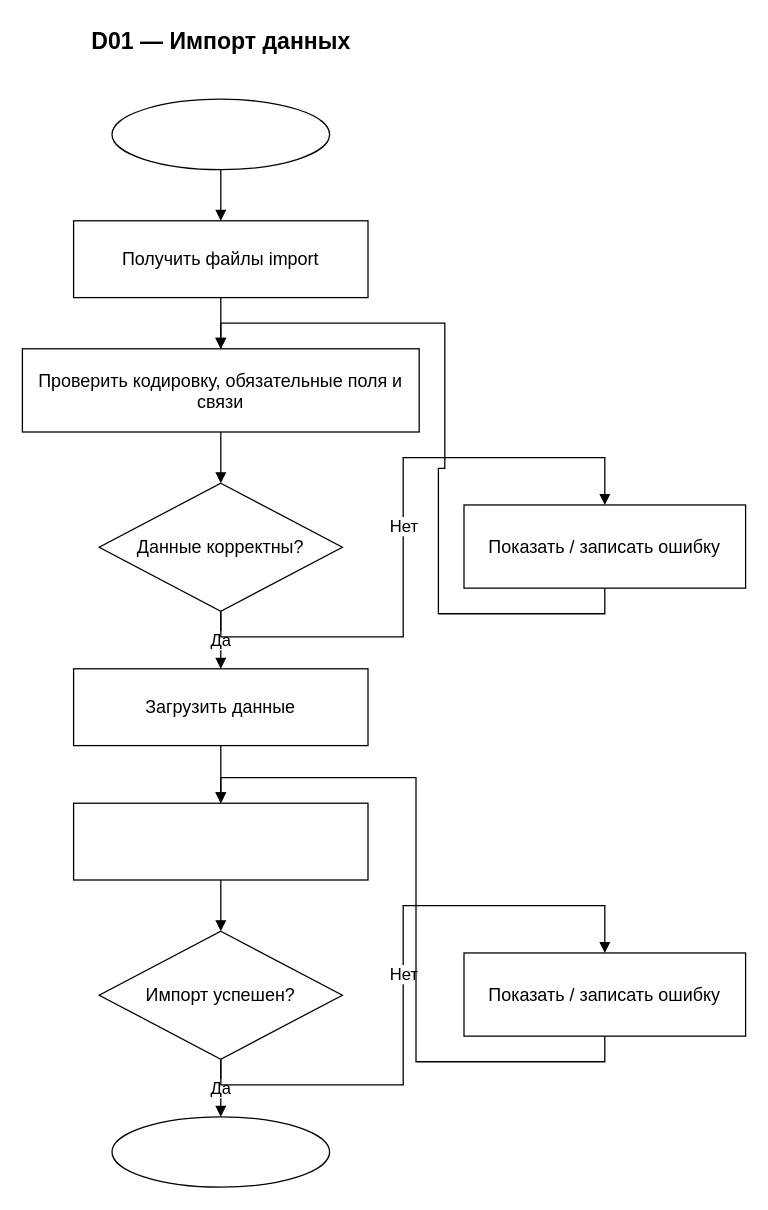
This 768x1210 diagram has some shape labels left out. Here are the shapes that lost their labels. From the top down, the centre of each, then its label:
At pixel 220 134: "Начало".
At pixel 220 841: "Проверить импорт".
At pixel 220 1151: "Конец".
